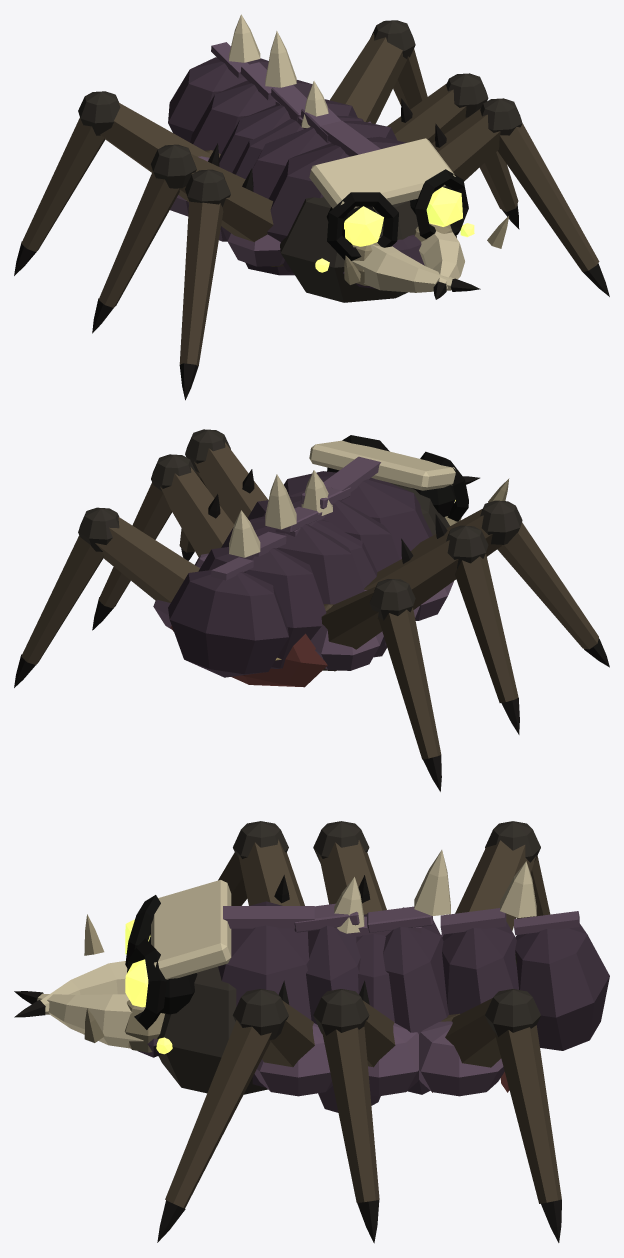
Rendered from skitter_brood.fbx.
3 views of the same model, one above another, from view 1: azimuth 30°, elevation 25°; view 2: azimuth 150°, elevation 25°; view 3: azimuth 270°, elevation 25° (orthographic). The views are drawn at different scales.
Visible parts, largest first — view 1: Body, Leg_1, Leg_2, Leg_6, Leg_4, Leg_5, Leg_3, Mandible_R, Eye, Mandible_L; view 2: Body, Leg_5, Leg_4, Leg_6, Leg_3, Leg_2, Leg_1; view 3: Body, Leg_5, Leg_1, Leg_3, Leg_2, Leg_6, Mandible_L, Leg_4, Mandible_R, Eye.
Part boxes in pixels (x1,y1,x2,y2): Body: [168, 14, 468, 302]; Leg_1: [432, 98, 609, 296]; Leg_2: [179, 168, 283, 400]; Leg_6: [14, 91, 220, 275]; Leg_4: [92, 143, 245, 333]; Leg_5: [330, 20, 427, 123]; Leg_3: [387, 73, 519, 229]; Mandible_R: [344, 237, 480, 292]; Eye: [315, 187, 474, 272]; Mandible_L: [414, 216, 508, 299]; Body: [153, 435, 468, 687]; Leg_5: [14, 507, 199, 687]; Leg_4: [364, 525, 519, 734]; Leg_6: [321, 579, 441, 791]; Leg_3: [92, 454, 233, 630]; Leg_2: [411, 500, 609, 667]; Leg_1: [179, 429, 268, 560]; Body: [125, 850, 609, 1112]; Leg_5: [441, 989, 561, 1242]; Leg_1: [157, 980, 314, 1242]; Leg_3: [313, 980, 395, 1243]; Leg_2: [218, 821, 304, 905]; Leg_6: [455, 821, 550, 930]; Mandible_L: [14, 991, 164, 1052]; Leg_4: [313, 821, 386, 914]; Mandible_R: [14, 914, 127, 1017]; Eye: [125, 919, 172, 1054].
Size of the model in its own units: 5.42 by 2.79 by 5.56.
10 materials, 9 textured.
